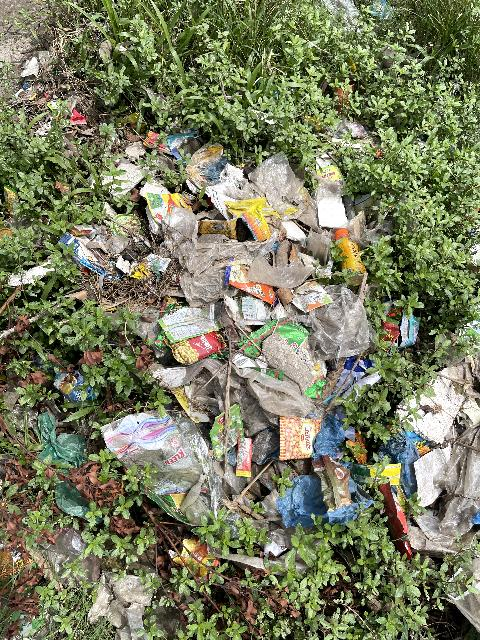polythene: (112, 162, 382, 581)
